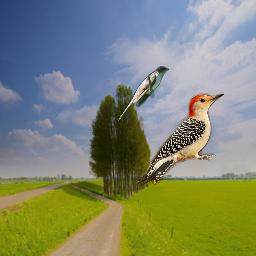Cuckoo: (117, 66, 169, 122)
Woodpecker: (136, 93, 224, 187)
